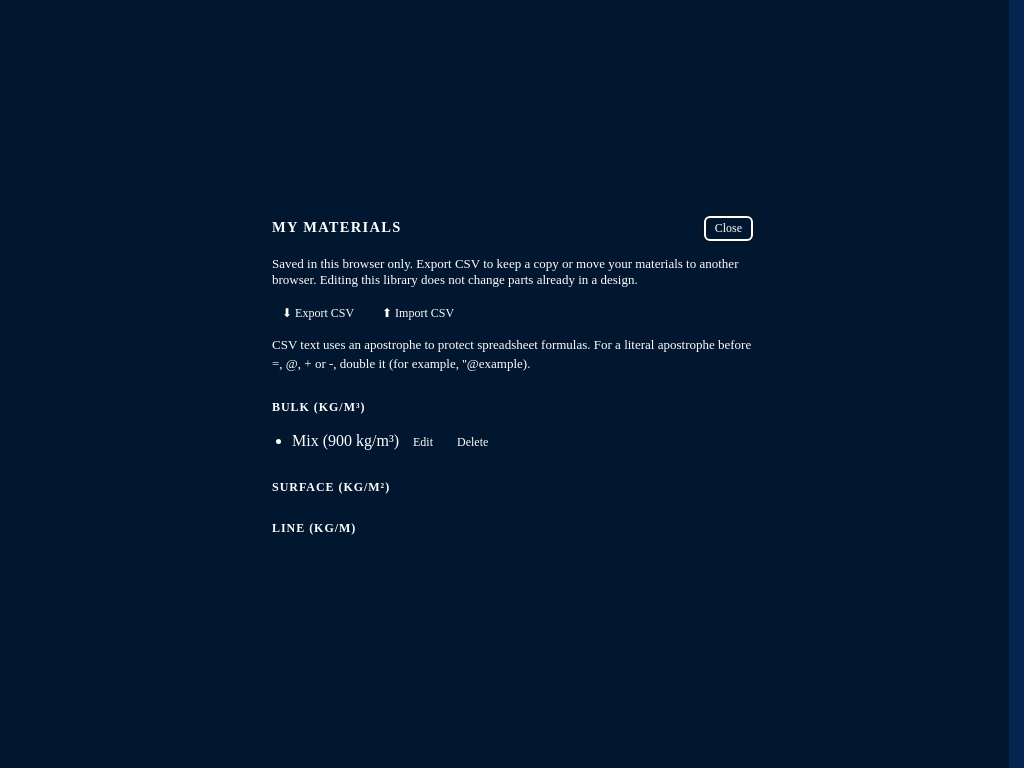
Scenario: S3c-g1 does not report an update after another tab deleted the edited material
This screenshot has width=1024, height=768.
Click the button "Edit". click: coordinates (423, 442)
box: [403,430,443,454]
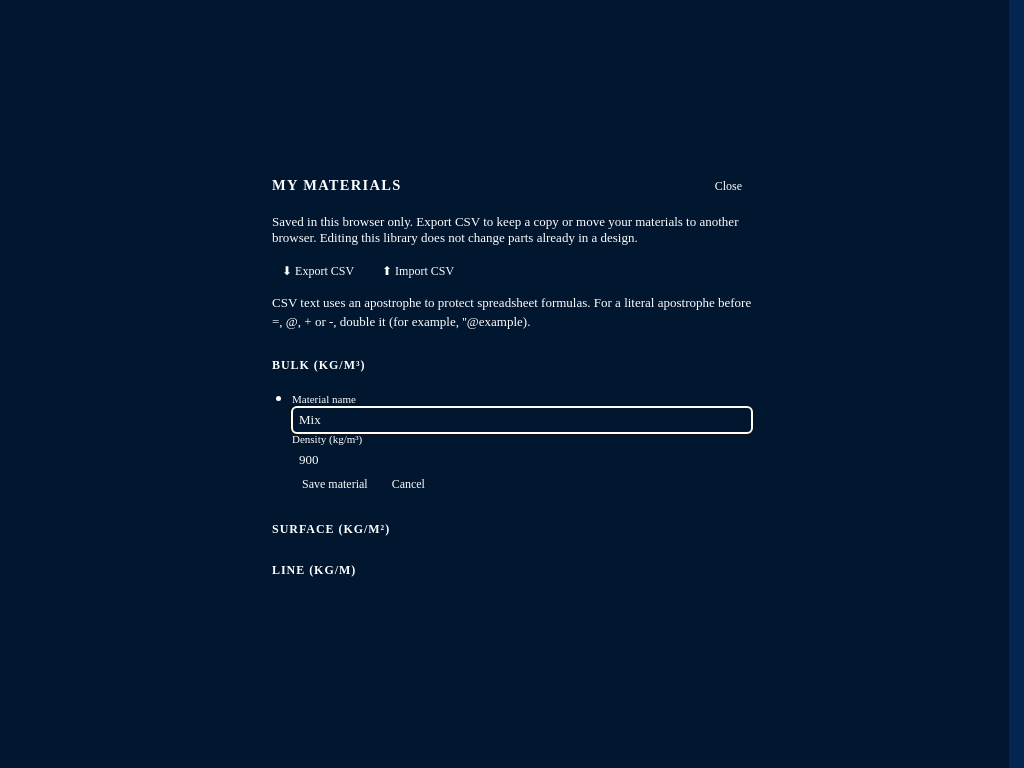
Submit the form, box [292,392,752,496]
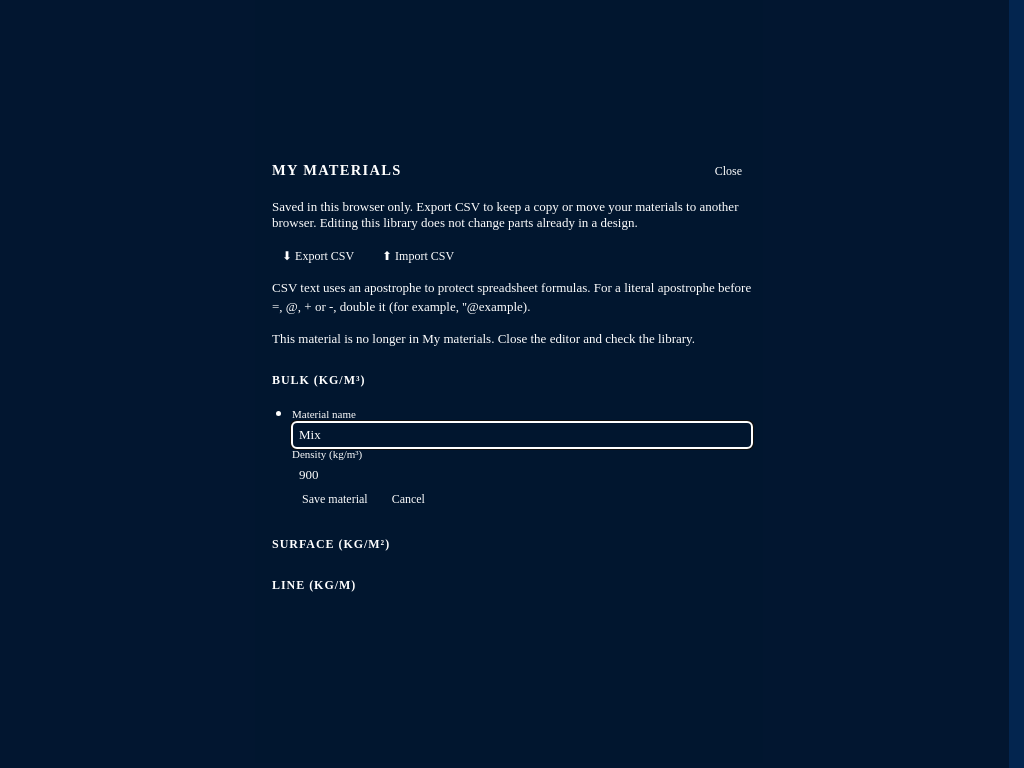
Expected: the text "no longer in My materials" is shown, [272,330,695,346]
